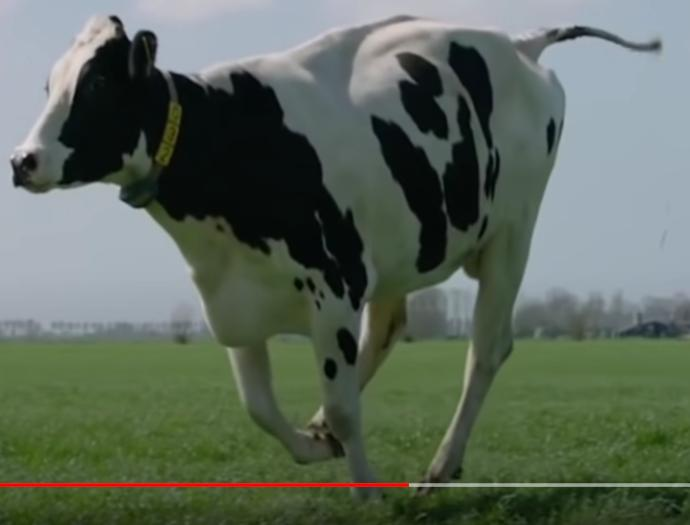cow: (11, 21, 568, 501)
